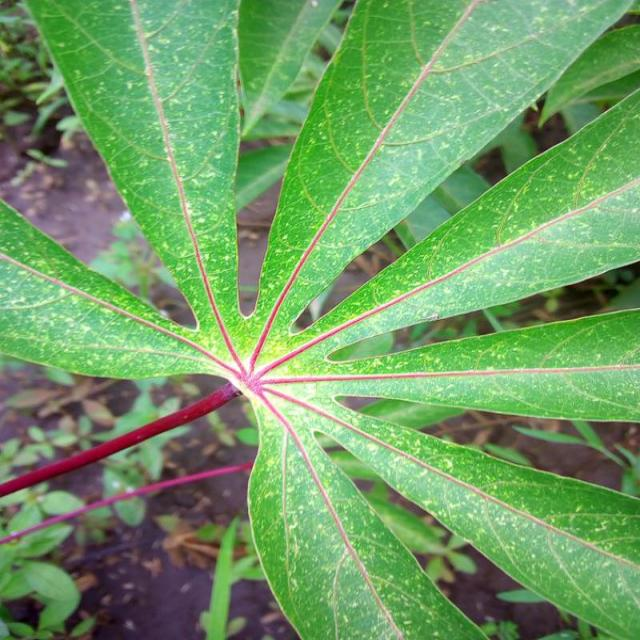cassava leaf: (1, 0, 638, 638), (251, 0, 636, 361)
